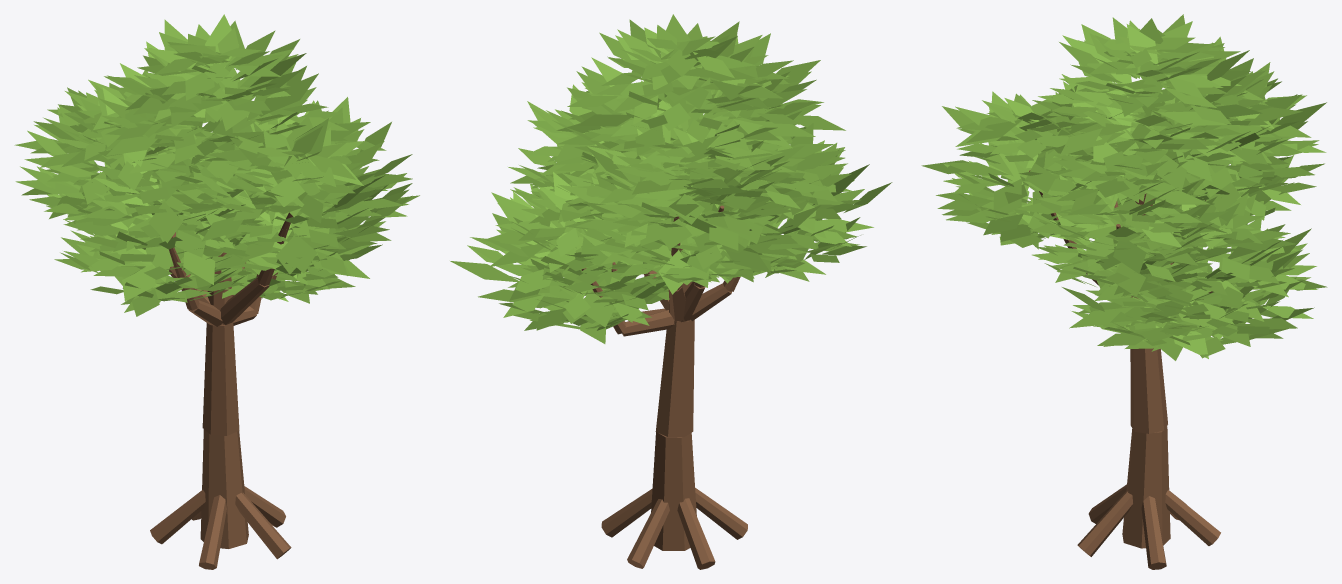
File: Tree_46.glb
3 views of the same model, side by side, from view 1: azimuth 30°, elevation 25°; view 2: azimuth 150°, elevation 25°; view 3: azimuth 270°, elevation 25° (orthographic).
Visible parts, largest first — view 1: Tree_46; view 2: Tree_46; view 3: Tree_46.
Part boxes in pixels (x1,y1,x2,y2): Tree_46: (14,14,419,569); Tree_46: (450,14,892,569); Tree_46: (921,14,1327,569).
Size of the model in its own units: 4.2 by 5.85 by 4.27.
